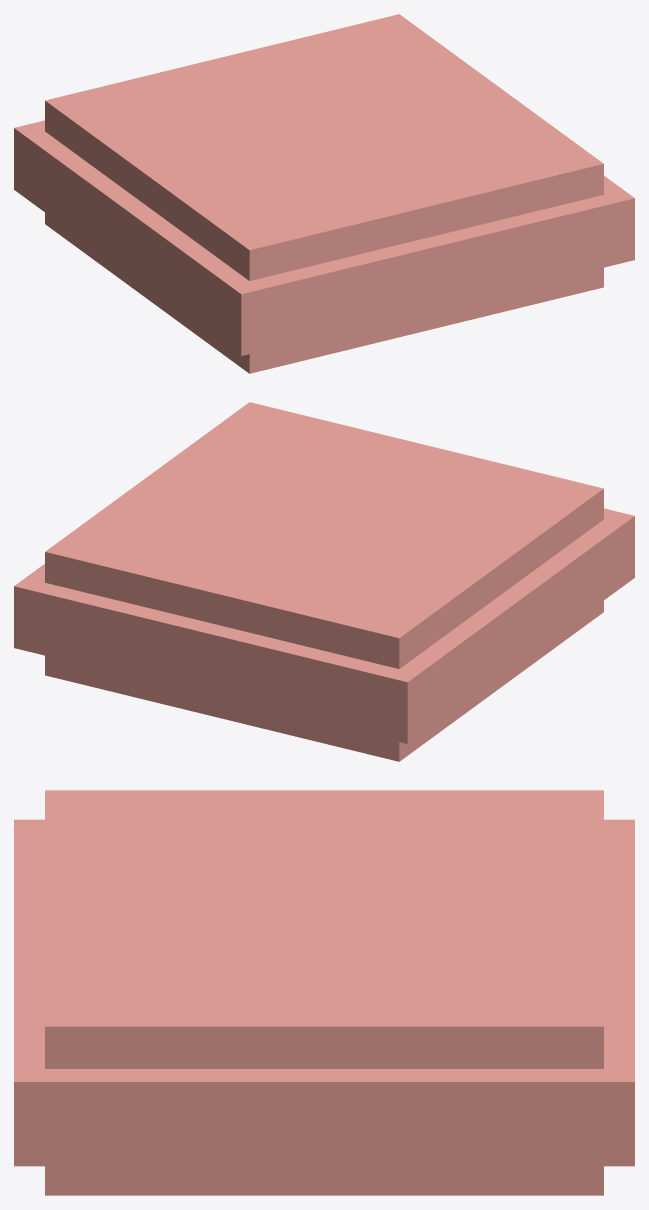
The model's file is bb_set_cushion.fbx.
3 renders of one model, top to bottom at view 1: azimuth 30°, elevation 25°; view 2: azimuth 150°, elevation 25°; view 3: azimuth 270°, elevation 25°, orthographic. The views are drawn at different scales.
Visible parts, largest first — view 1: bb_set_cushion; view 2: bb_set_cushion; view 3: bb_set_cushion.
Part boxes in pixels (x1,y1,x2,y2): bb_set_cushion: [14, 14, 634, 373]; bb_set_cushion: [14, 402, 634, 761]; bb_set_cushion: [14, 790, 634, 1195].
Size of the model in its own units: 0.4 by 0.12 by 0.4.
